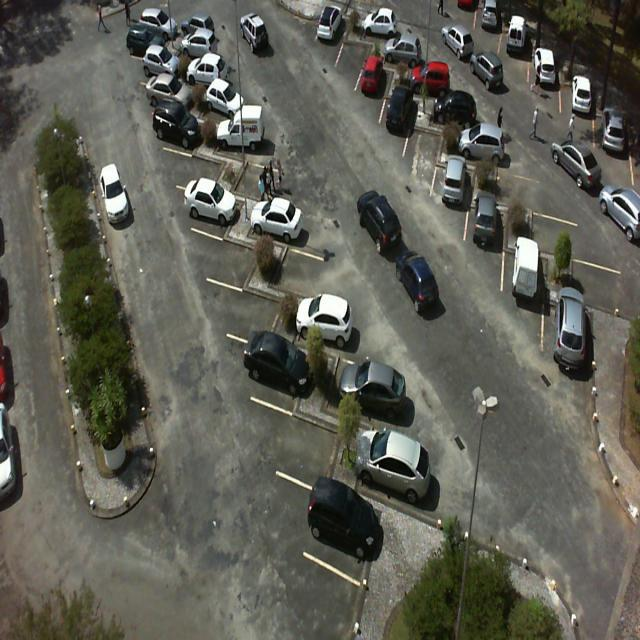space-empty: (271, 390, 348, 479), (223, 270, 286, 343), (272, 235, 337, 297), (570, 260, 630, 322), (204, 224, 262, 281), (237, 148, 295, 200), (533, 205, 585, 263), (496, 165, 552, 214), (171, 139, 224, 188), (400, 122, 442, 182), (335, 40, 372, 94)
space-occupied: (304, 468, 388, 582), (317, 353, 388, 431), (365, 425, 432, 507), (245, 326, 312, 406), (302, 288, 362, 358), (542, 303, 591, 374), (254, 192, 315, 246), (192, 176, 248, 234), (468, 198, 507, 272), (503, 241, 543, 312), (202, 78, 258, 127), (431, 163, 472, 225), (158, 101, 207, 151), (464, 124, 514, 170), (315, 9, 352, 68), (380, 92, 416, 152), (222, 117, 272, 160), (410, 61, 458, 104), (354, 63, 392, 116), (151, 75, 197, 116), (561, 75, 590, 136), (139, 46, 182, 87), (434, 94, 478, 134), (175, 31, 220, 68), (366, 11, 411, 48), (192, 58, 237, 94), (500, 30, 532, 79), (529, 50, 560, 100), (389, 38, 428, 74)
